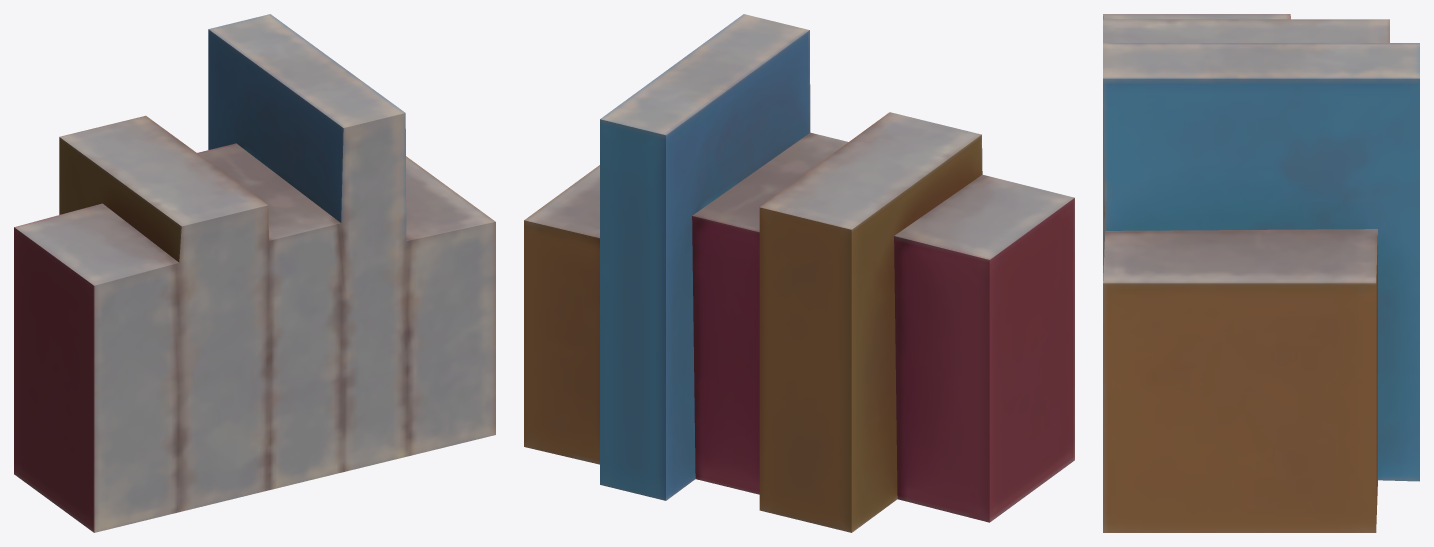
File: Prfb_Indoors_Books__2.fbx
The picture shows the model from 3 angles, left to right: view 1: azimuth 30°, elevation 25°; view 2: azimuth 150°, elevation 25°; view 3: azimuth 270°, elevation 25°; orthographic projection. The views are drawn at different scales.
Visible parts, largest first — view 1: Mat_Indoors_Books_01; view 2: Mat_Indoors_Books_01; view 3: Mat_Indoors_Books_01.
Part boxes in pixels (x1,y1,x2,y2): Mat_Indoors_Books_01: (14,14,495,532); Mat_Indoors_Books_01: (524,14,1074,532); Mat_Indoors_Books_01: (1103,14,1419,532).
Size of the model in its own units: 0.6682 by 0.5469 by 0.3898.
1 material, 1 textured.
